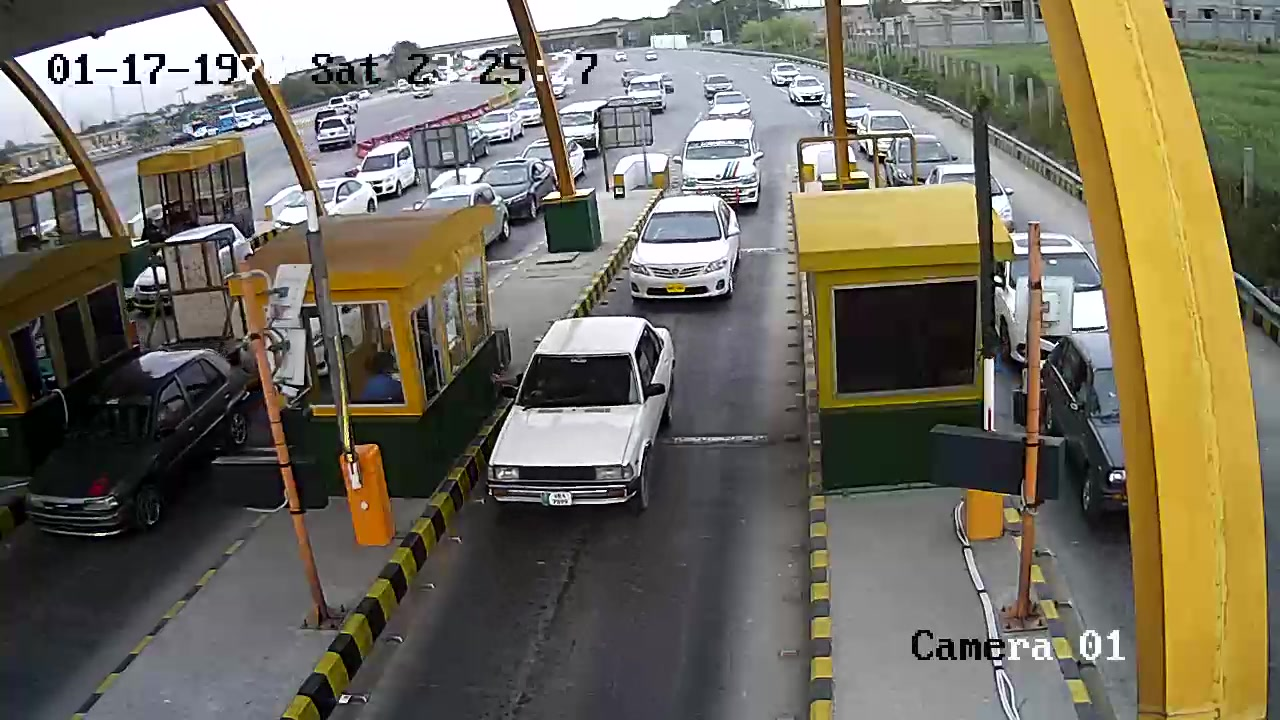F1: (484, 314, 689, 521)
